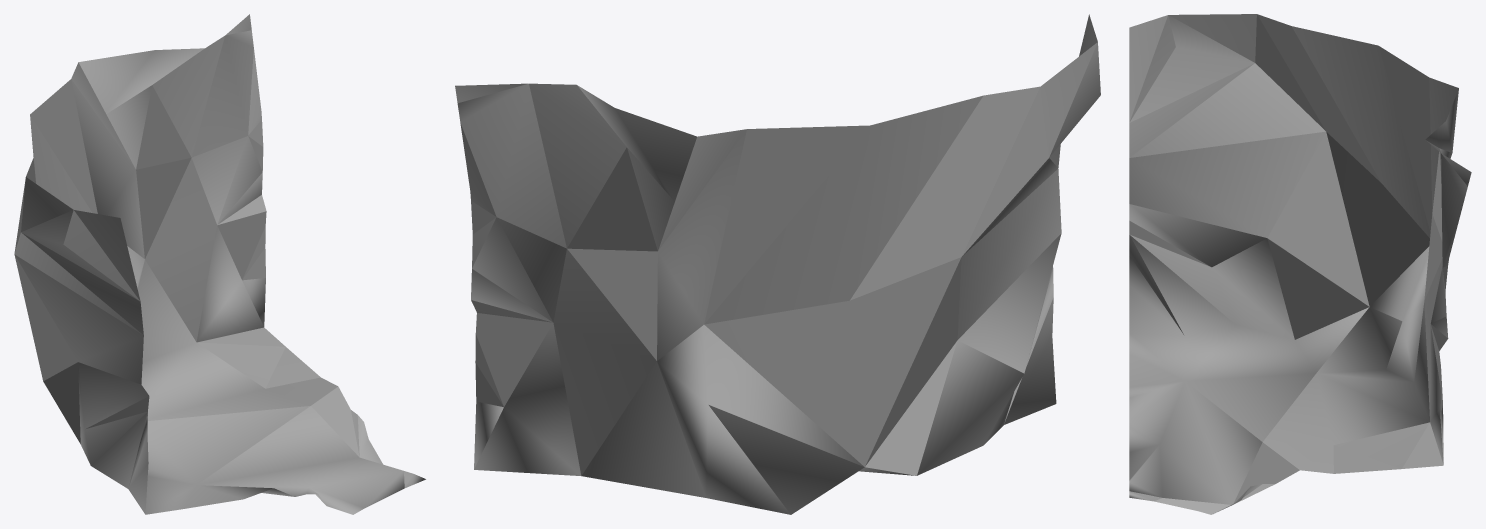
File: CornerFloor1_Col.fbx
3 renders of one model, left to right at view 1: azimuth 30°, elevation 25°; view 2: azimuth 150°, elevation 25°; view 3: azimuth 270°, elevation 25°, orthographic. The views are drawn at different scales.
Visible parts, largest first — view 1: CornerFloor1_Col; view 2: CornerFloor1_Col; view 3: CornerFloor1_Col.
Part boxes in pixels (<box>): CornerFloor1_Col: <box>14,14,425,514</box>; CornerFloor1_Col: <box>455,14,1100,514</box>; CornerFloor1_Col: <box>1129,14,1471,514</box>.
Bounding box in the file's own units: 455 × 452 × 409.
